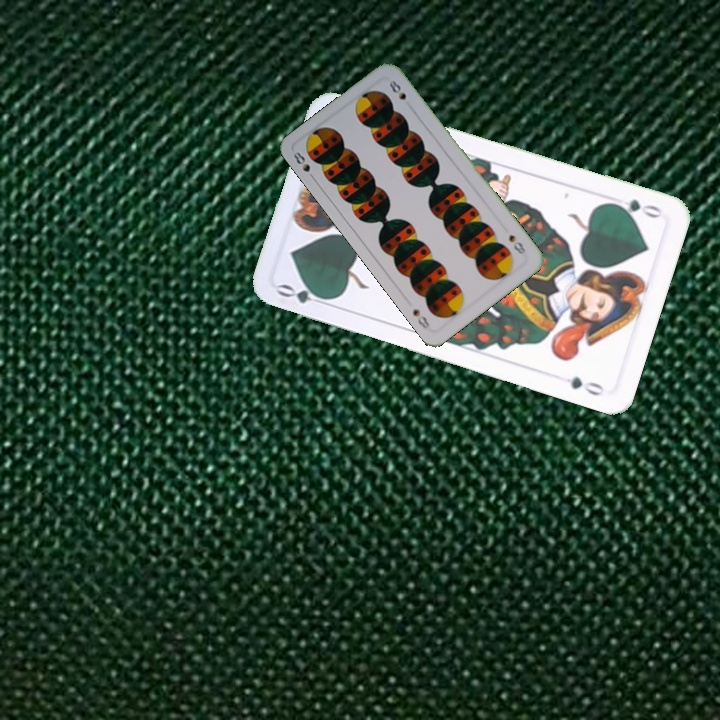GO: (273, 279, 334, 309), (606, 195, 664, 221)
S8: (289, 147, 318, 183), (504, 231, 529, 257)
